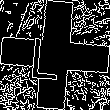L_N: (37, 29, 73, 81)
